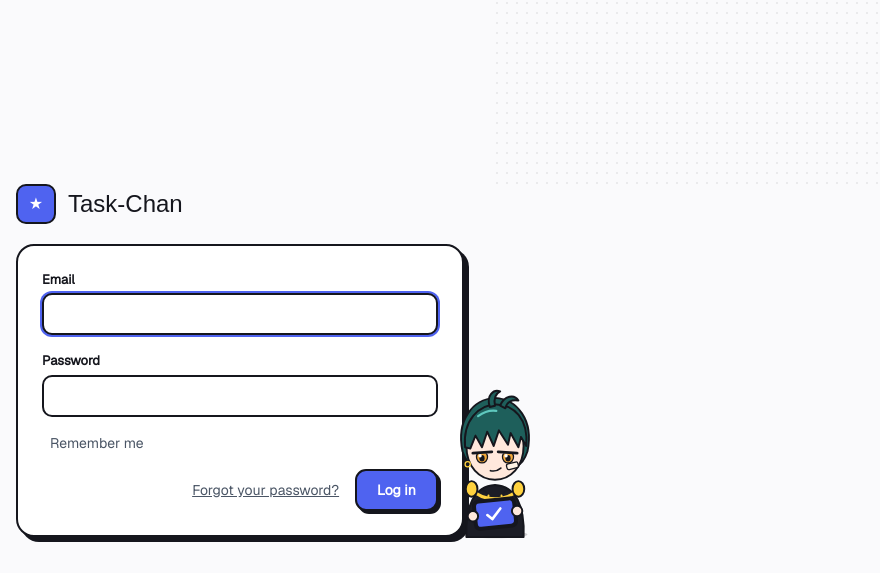
Test: auth forms › shows login failures on the email field, including the attempt limit
The image size is (880, 573).
Step 1. Type "ada@example.com" into the field labelled "Email" → (240, 314), box x1=42 y1=293 x2=438 y2=335
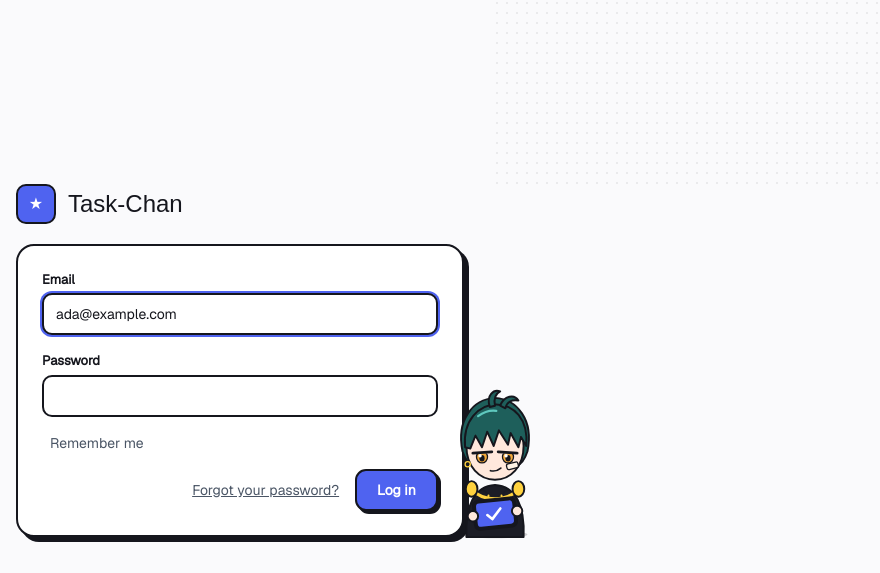
Step 2. Type "wrong-password" into the password field labelled "Password" → (240, 396), box x1=42 y1=374 x2=438 y2=416
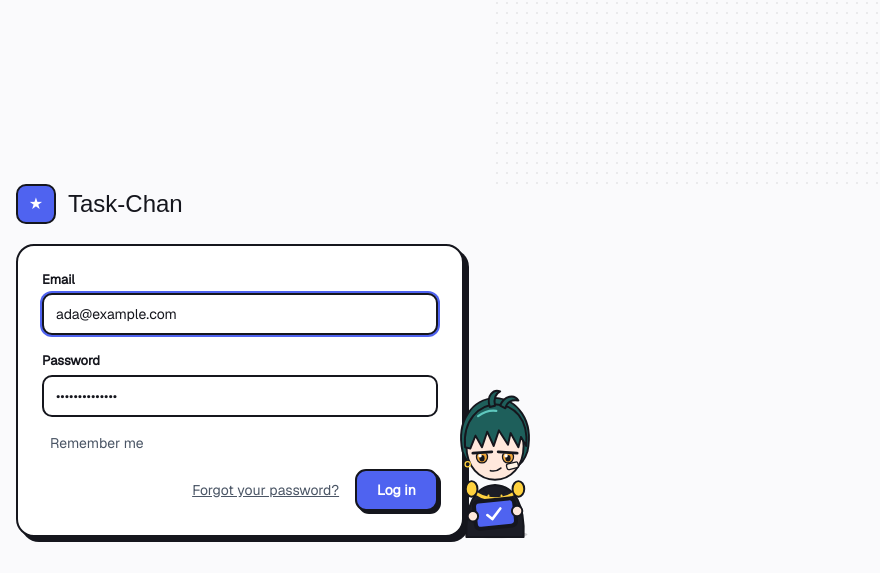
Step 3. Click the button "Log in" → (397, 490), box x1=355 y1=468 x2=438 y2=510
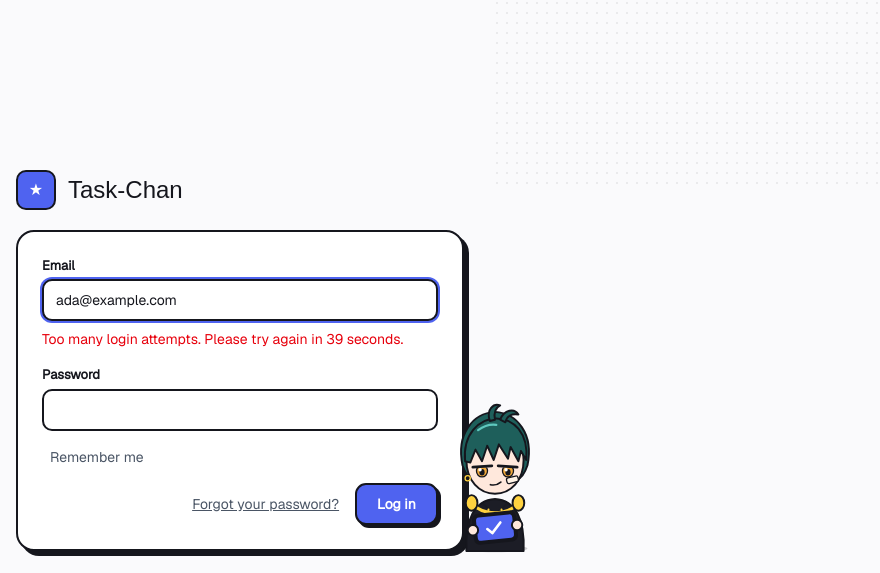
Check: the field labelled "Email" is enabled, box x1=42 y1=279 x2=438 y2=321
Check: the text "Too many login attempts. Please try again in 39 seconds." is shown, box x1=42 y1=329 x2=438 y2=349
